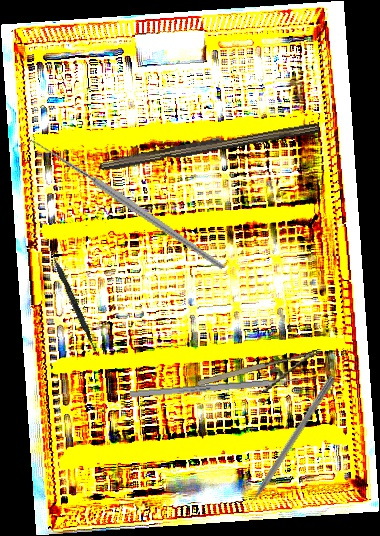Hook Surgical: (18, 86, 227, 326)
Needle Holder: (196, 348, 328, 407)
Pusher: (237, 375, 336, 520), (130, 374, 317, 399)
Scalpel Handle: (98, 115, 320, 176)
Spatula Surgical: (42, 238, 102, 357)
